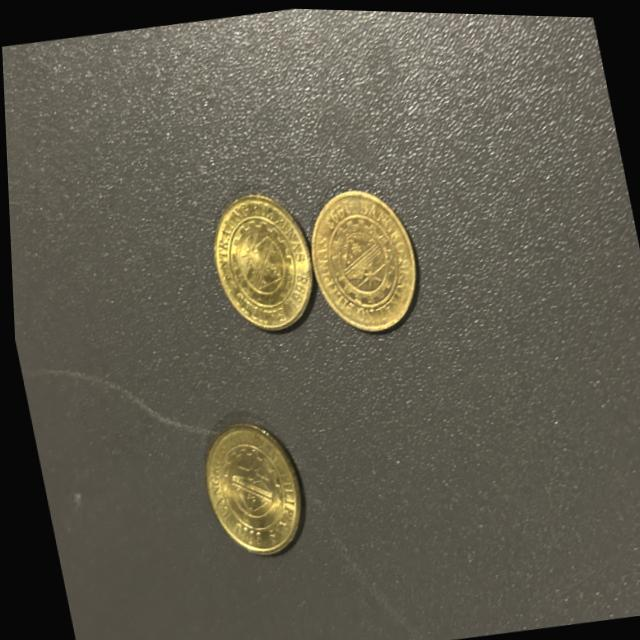25Cent_Old_Back: (206, 202, 316, 335), (305, 197, 414, 324), (202, 425, 292, 552)
